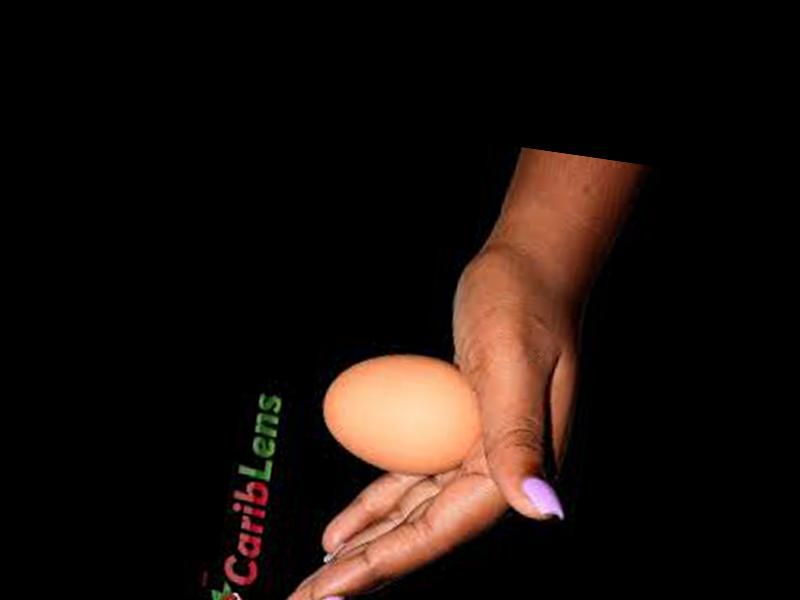Eggs: (314, 342, 488, 484)
